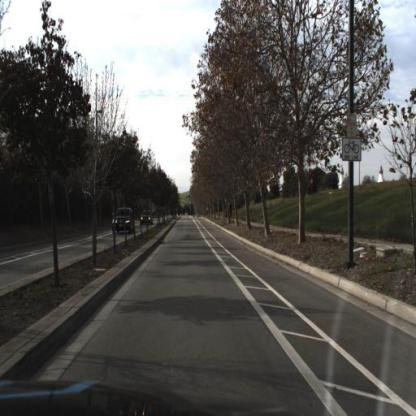car: (110, 206, 136, 235), (112, 206, 133, 235), (138, 209, 152, 230), (140, 209, 152, 225)
